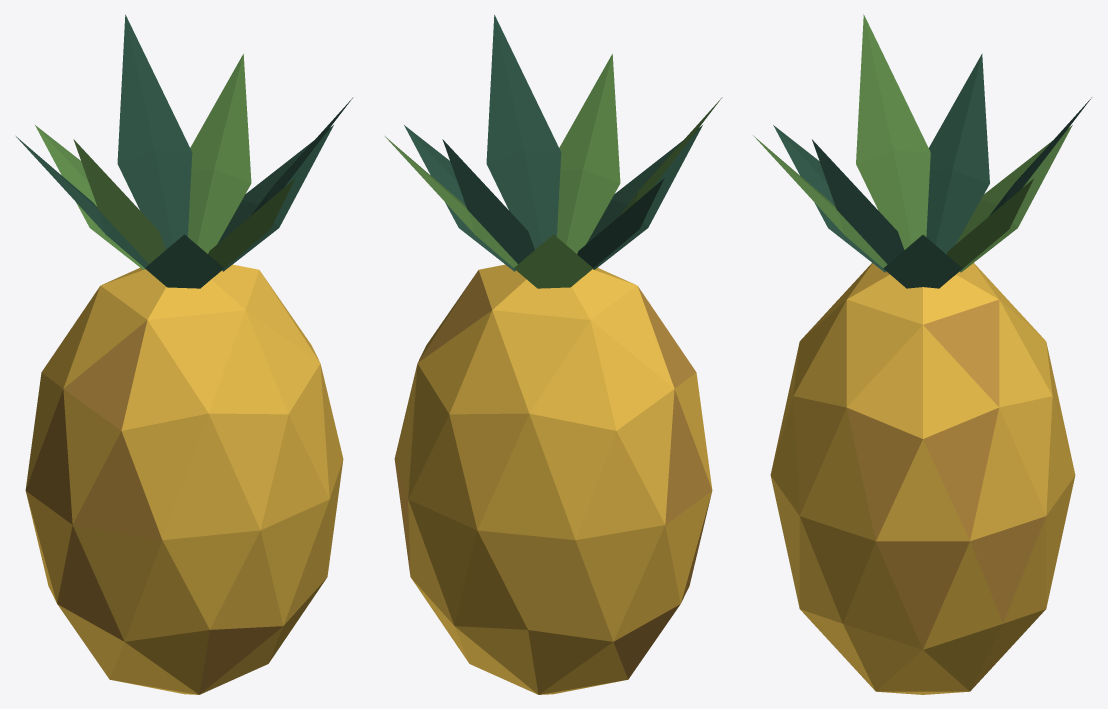
File: pineapple.fbx
3 views of the same model, side by side, from view 1: azimuth 30°, elevation 25°; view 2: azimuth 150°, elevation 25°; view 3: azimuth 270°, elevation 25° (orthographic).
Parts seen in each view (by area): view 1: pineapple; view 2: pineapple; view 3: pineapple.
Boxes of the visible parts, x1,y1,x2,y2 form: pineapple: (16, 14, 353, 694); pineapple: (385, 14, 722, 694); pineapple: (753, 14, 1091, 694).
Size of the model in its own units: 19.4 by 39 by 19.7.
